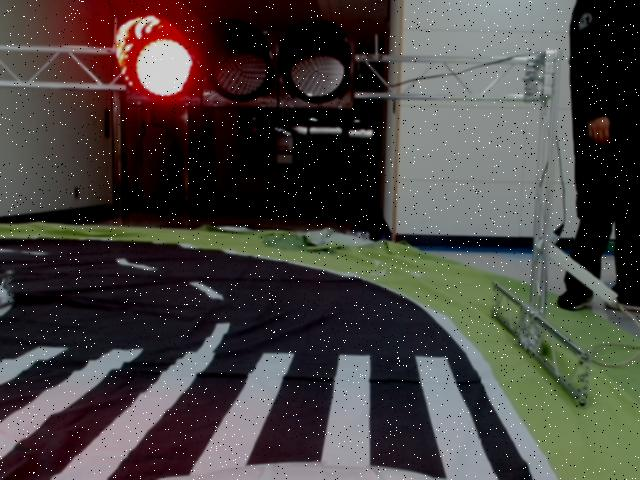crosswalk: (0, 346, 508, 480)
traffic light-red-: (116, 18, 354, 110)
